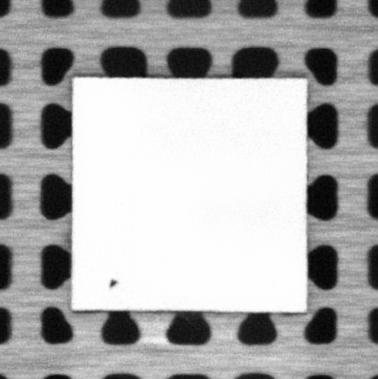DIE_INK: (107, 277, 120, 288)
